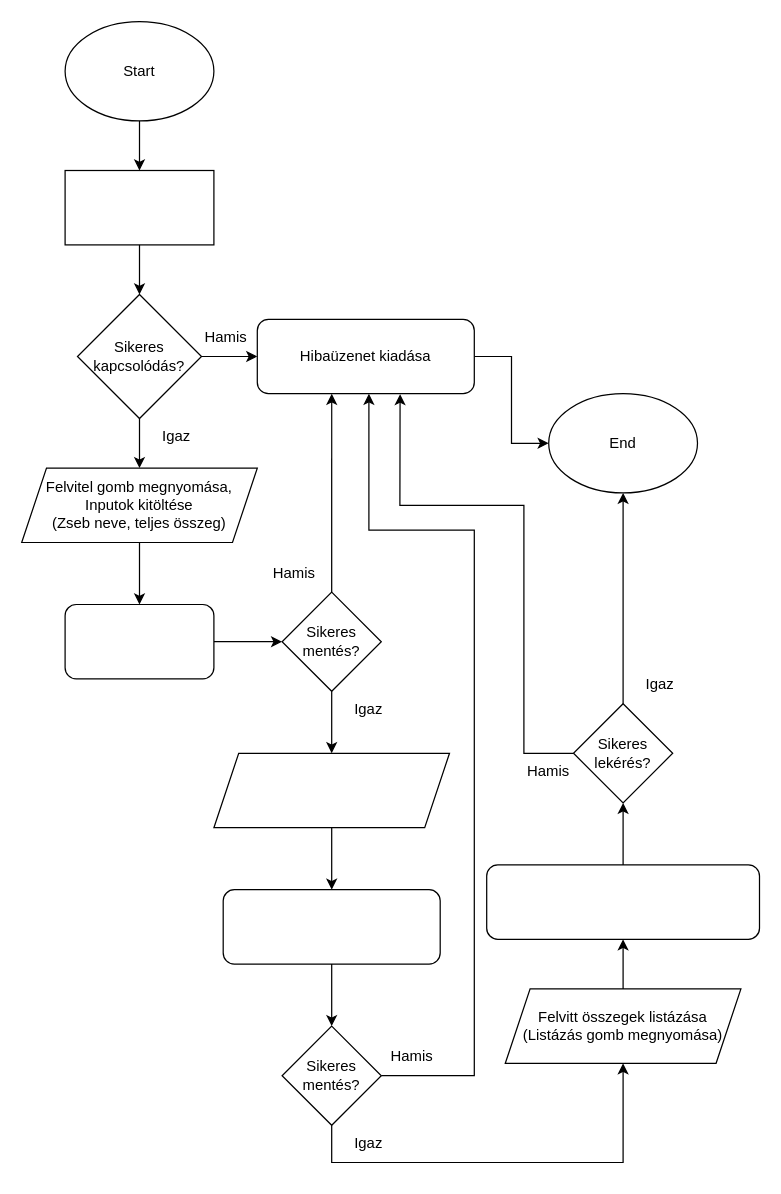
Some shapes in this 781 by 1194 pixel diagram are drawn without their labels. The centre of each missing label's shape, as x and y in pixels:
"Kapcsolódási kísérlet a firebase-hez" goes at (139,207).
"Zseb adatbázisba történő mentése" goes at (139,641).
"Összeg hozzáadása a zsebhez" goes at (331,790).
"Összeg mentése a megfelelő azonosítójú zsebhez" goes at (331,926).
"Összegek adatbázisból való lekérése ( megfelelő zsebhez - megfelelő összegek)" goes at (622,901).
